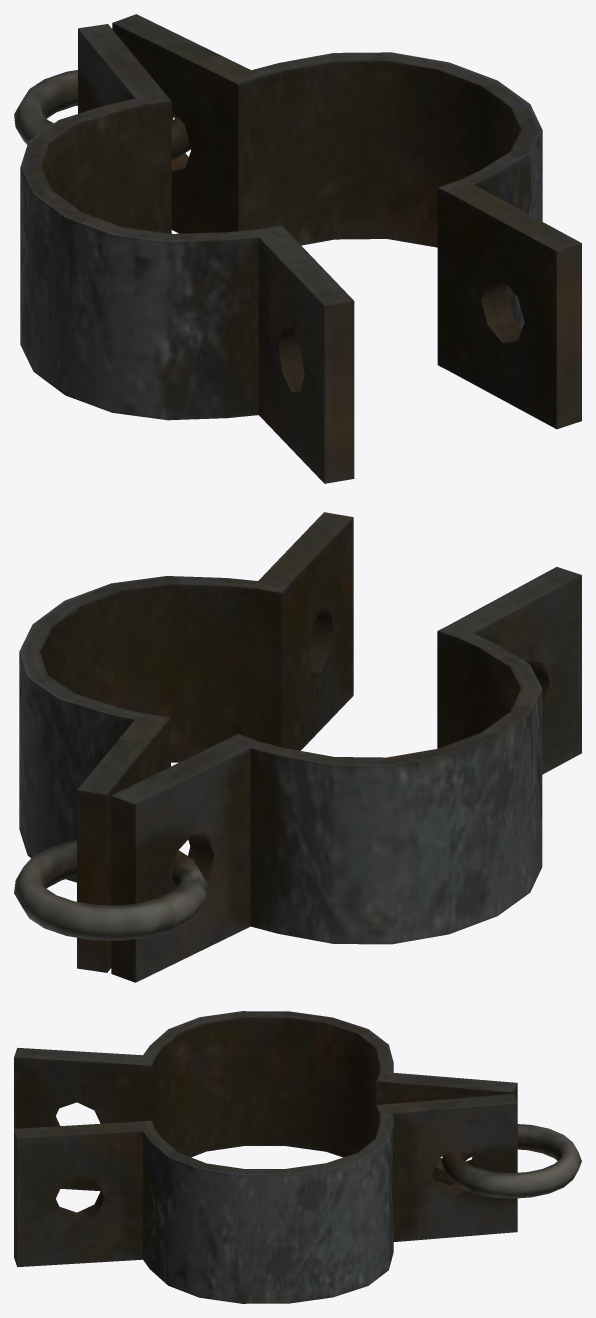
Rendered from SM_Handcuff.glb.
The picture shows the model from 3 angles, top to bottom: view 1: azimuth 30°, elevation 25°; view 2: azimuth 150°, elevation 25°; view 3: azimuth 270°, elevation 25°; orthographic projection. The views are drawn at different scales.
Visible parts, largest first — view 1: SM_Handcuff; view 2: SM_Handcuff; view 3: SM_Handcuff.
Part boxes in pixels (x1,y1,x2,y2): SM_Handcuff: (14, 14, 581, 483); SM_Handcuff: (14, 512, 581, 982); SM_Handcuff: (14, 1011, 581, 1303).
Bounding box in the file's own units: 0.165 × 0.0603 × 0.2415.
Materials: 1 (1 with a texture image).
